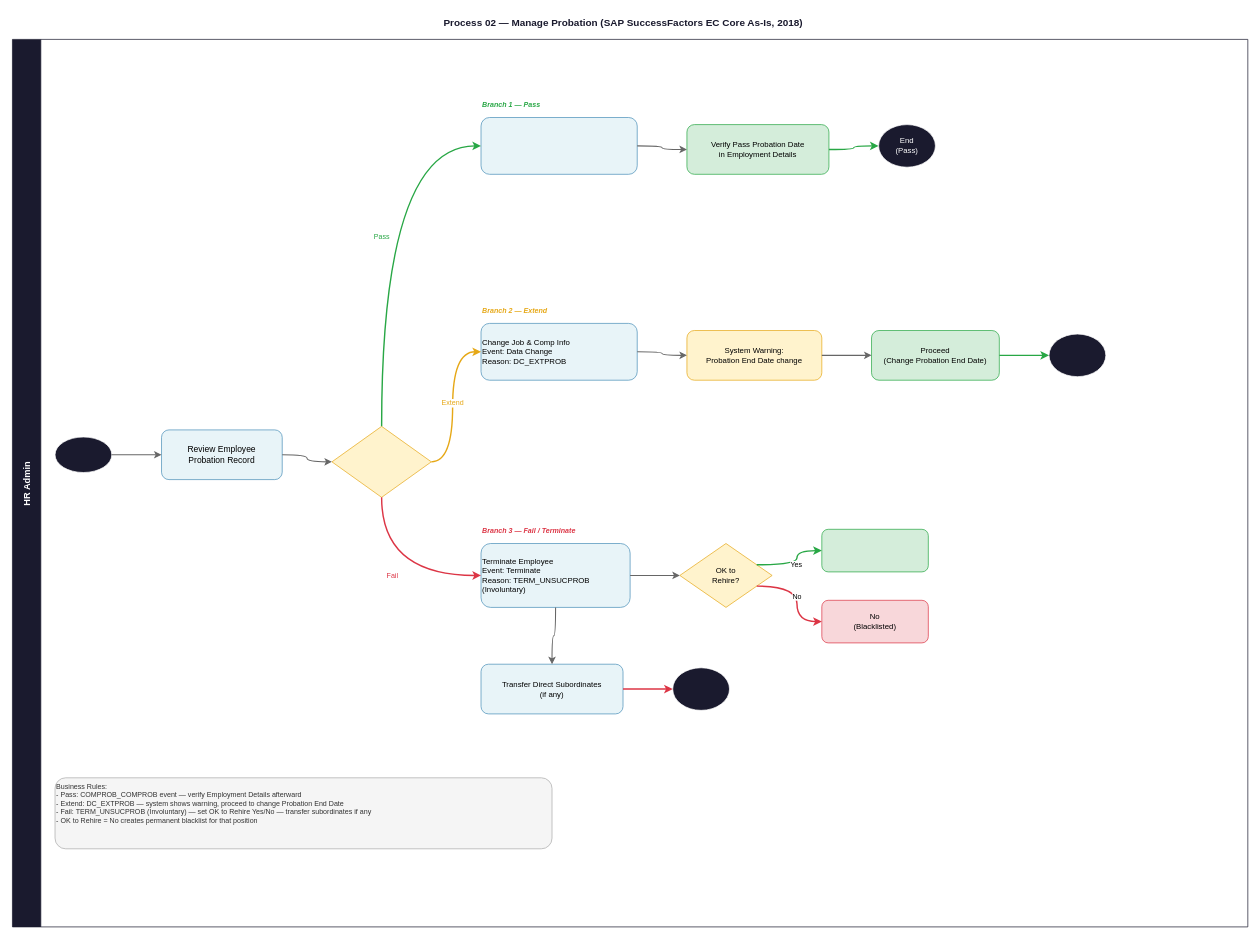
Image size: 1260x939. Some labels were removed from this diagram. The centre of each missing label's shape, as x and y in pixels:
"Change Job & Comp Info Event: Completion of Probation Reason: COMPROB_COMPROB" goes at point (558, 145).
"End (Extend)" goes at point (1077, 355).
"End (Fail)" goes at point (701, 688).
"Probation Result?" goes at point (381, 461).
"Start" goes at point (83, 454).
"Yes (Rehire eligible)" goes at point (874, 550).
